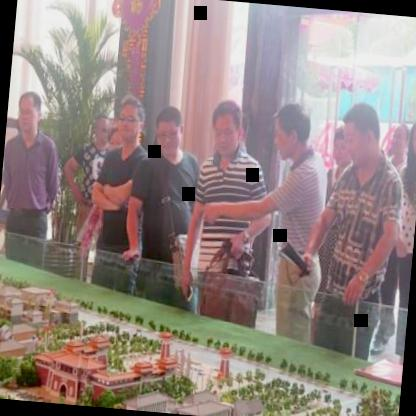head: (336, 99, 382, 177), (207, 93, 248, 160), (272, 100, 314, 164), (150, 104, 186, 160), (114, 94, 146, 149), (14, 90, 42, 139), (330, 126, 354, 174), (388, 122, 410, 161), (405, 111, 416, 170)
helmet: (14, 83, 46, 139)
